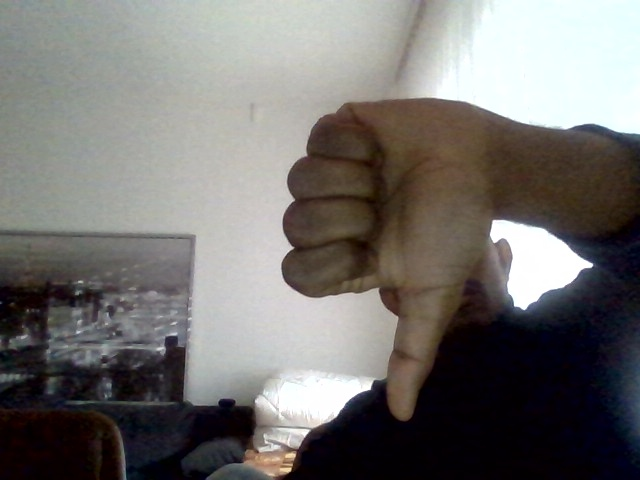td: (283, 98, 502, 424)
